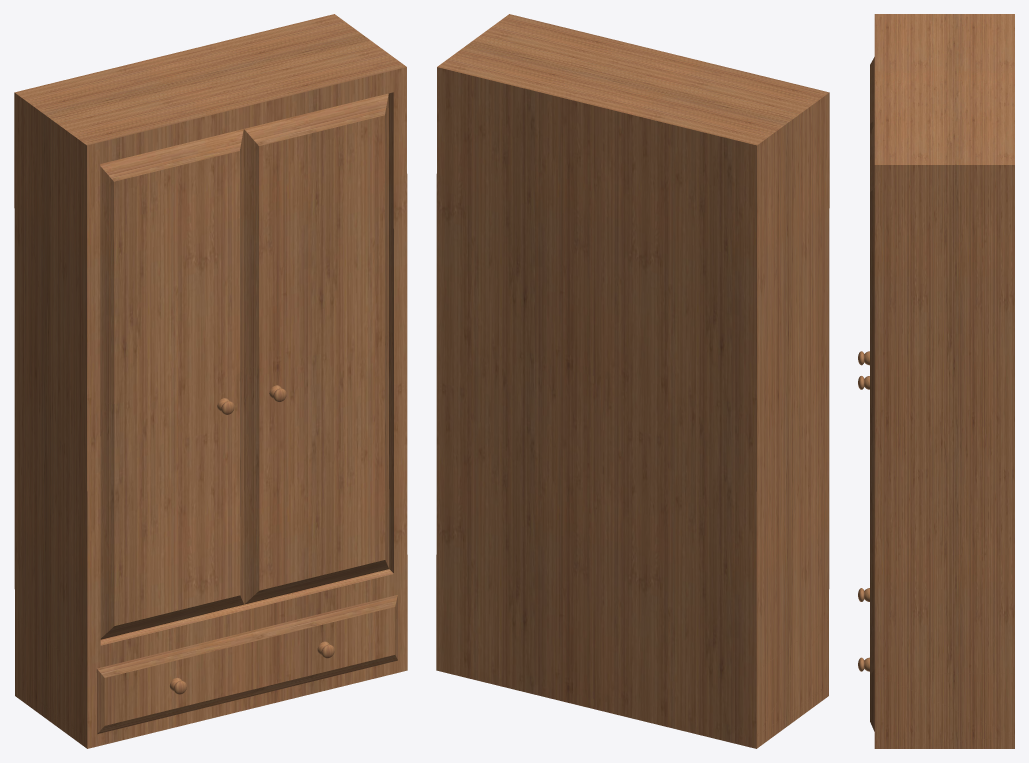
File: wardrobe_dylanheyes.gltf
3 views of the same model, side by side, from view 1: azimuth 30°, elevation 25°; view 2: azimuth 150°, elevation 25°; view 3: azimuth 270°, elevation 25° (orthographic). The views are drawn at different scales.
Visible parts, largest first — view 1: Wardrobe; view 2: Wardrobe; view 3: Wardrobe.
Part boxes in pixels (<box>): Wardrobe: <box>14,14,407,748</box>; Wardrobe: <box>436,14,829,748</box>; Wardrobe: <box>858,14,1014,748</box>.
Bounding box in the file's own units: 5.11 × 9.19 × 2.24.
2 materials, 2 textured.
